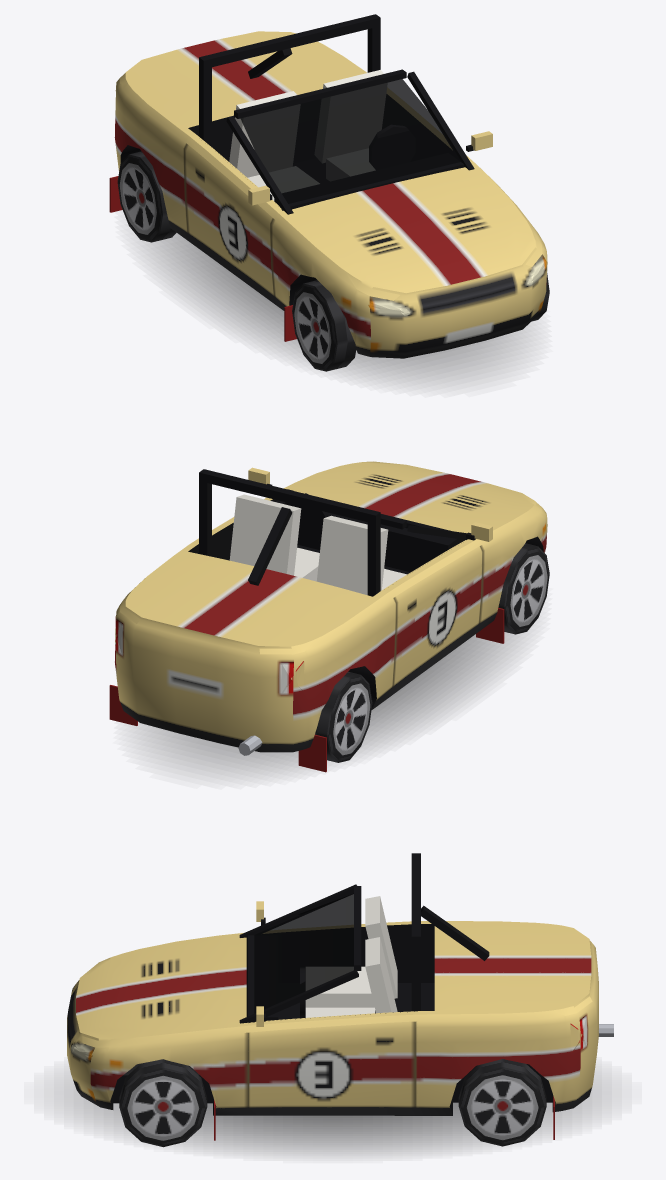
Rendered from canjica.glb.
3 renders of one model, top to bottom at view 1: azimuth 30°, elevation 25°; view 2: azimuth 150°, elevation 25°; view 3: azimuth 270°, elevation 25°, orthographic. The views are drawn at different scales.
Parts seen in each view (by area): view 1: Carroceria, Capo_malha, Sombra, Tampa_malha, Porta_D_malha, Roda_DD, Roda_TD, Porta_E_malha, Farol; view 2: Carroceria, Tampa_malha, Sombra, Capo_malha, Porta_D_malha, Roda_TD, Roda_DD, Porta_E_malha, Lanterna; view 3: Carroceria, Porta_E_malha, Tampa_malha, Capo_malha, Sombra, Roda_DE, Roda_TE, Porta_D_malha.
Boxes of the visible parts, x1,y1,x2,y2 form: Carroceria: [109, 14, 547, 358]; Capo_malha: [294, 174, 542, 300]; Sombra: [145, 233, 526, 383]; Tampa_malha: [120, 31, 360, 124]; Porta_D_malha: [184, 144, 274, 295]; Roda_DD: [292, 280, 356, 371]; Roda_TD: [117, 151, 176, 242]; Porta_E_malha: [383, 95, 492, 161]; Farol: [368, 259, 546, 316]; Carroceria: [109, 464, 547, 772]; Tampa_malha: [120, 507, 368, 654]; Sombra: [139, 632, 520, 775]; Capo_malha: [294, 461, 542, 530]; Porta_D_malha: [393, 522, 492, 685]; Roda_TD: [315, 671, 372, 762]; Roda_DD: [498, 543, 549, 634]; Porta_E_malha: [198, 467, 277, 560]; Lanterna: [115, 616, 304, 693]; Carroceria: [67, 853, 613, 1140]; Porta_E_malha: [248, 1006, 414, 1106]; Tampa_malha: [421, 905, 592, 1015]; Capo_malha: [82, 937, 229, 1047]; Sombra: [64, 1079, 601, 1154]; Roda_DE: [119, 1059, 207, 1147]; Roda_TE: [458, 1059, 546, 1146]; Porta_D_malha: [256, 901, 411, 982].
Bounding box in the file's own units: 2.26 × 1.47 × 4.21.
13 materials, 5 textured.
